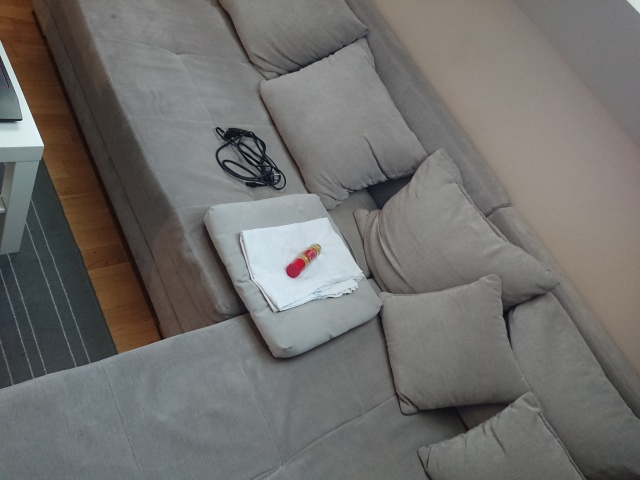Kotanyi Curry Spices Mix 70g: (284, 241, 323, 280)
